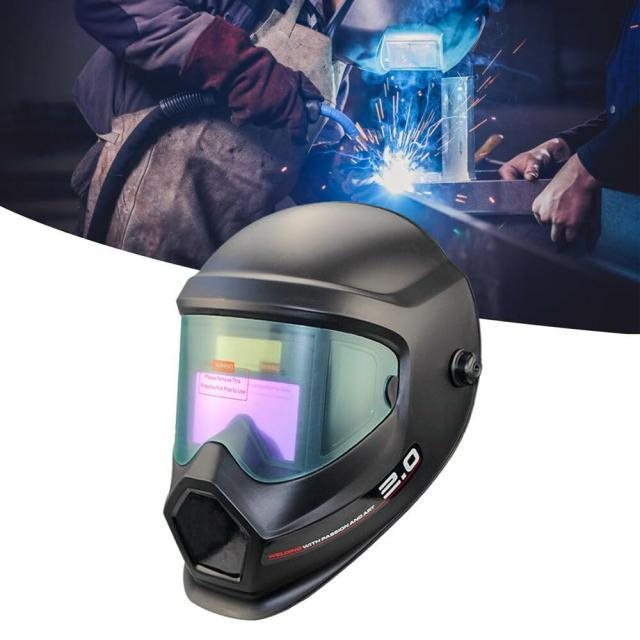with_helmet: (336, 0, 502, 74)
